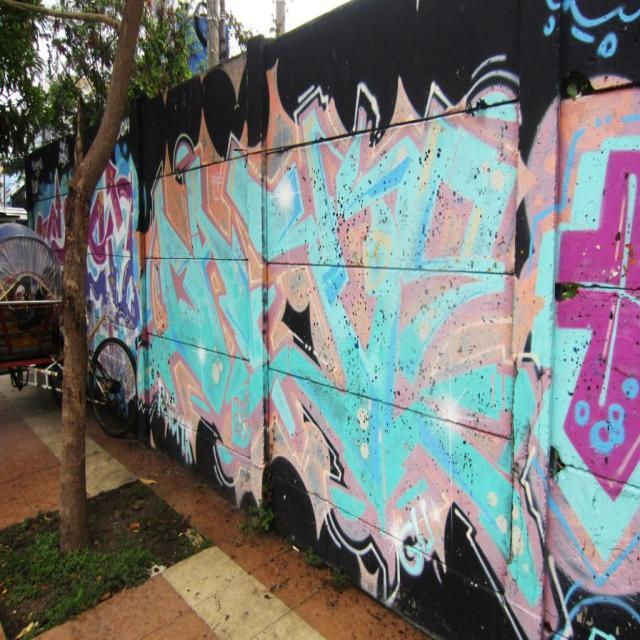-: (140, 57, 567, 640), (522, 72, 640, 600), (30, 171, 141, 337), (540, 0, 640, 56)
